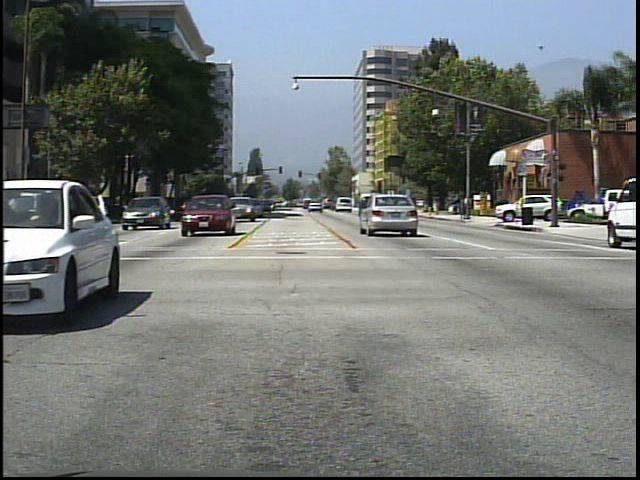person: (459, 190, 474, 222), (430, 190, 444, 216)
